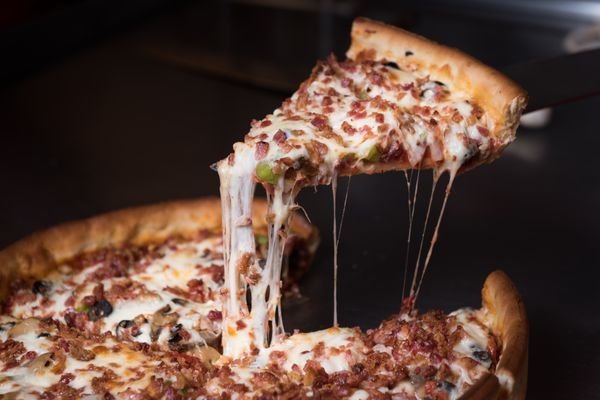sandwich: (1, 192, 549, 394)
